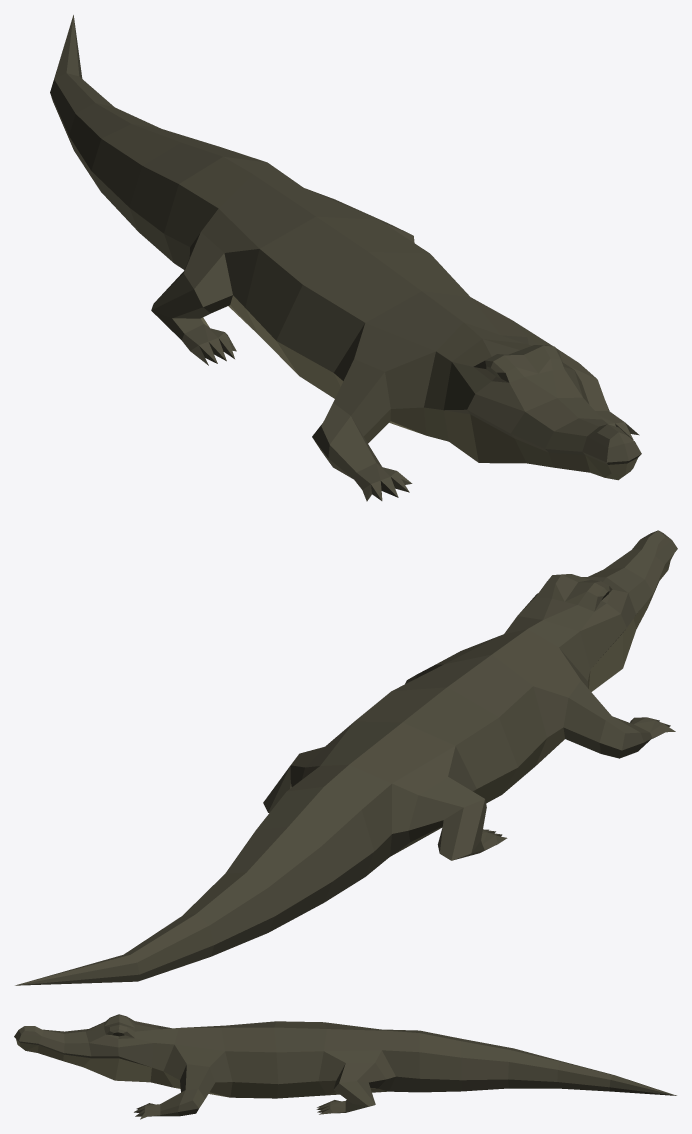
The model's file is Model_Wani 1.fbx.
The picture shows the model from 3 angles, top to bottom: view 1: azimuth 30°, elevation 25°; view 2: azimuth 150°, elevation 25°; view 3: azimuth 270°, elevation 25°; orthographic projection. The views are drawn at different scales.
Visible parts, largest first — view 1: Wani; view 2: Wani; view 3: Wani.
Part boxes in pixels (<box>): Wani: <box>50,15,641,501</box>; Wani: <box>15,530,677,985</box>; Wani: <box>14,1014,676,1119</box>.
Size of the model in its own units: 117 by 54.87 by 493.
